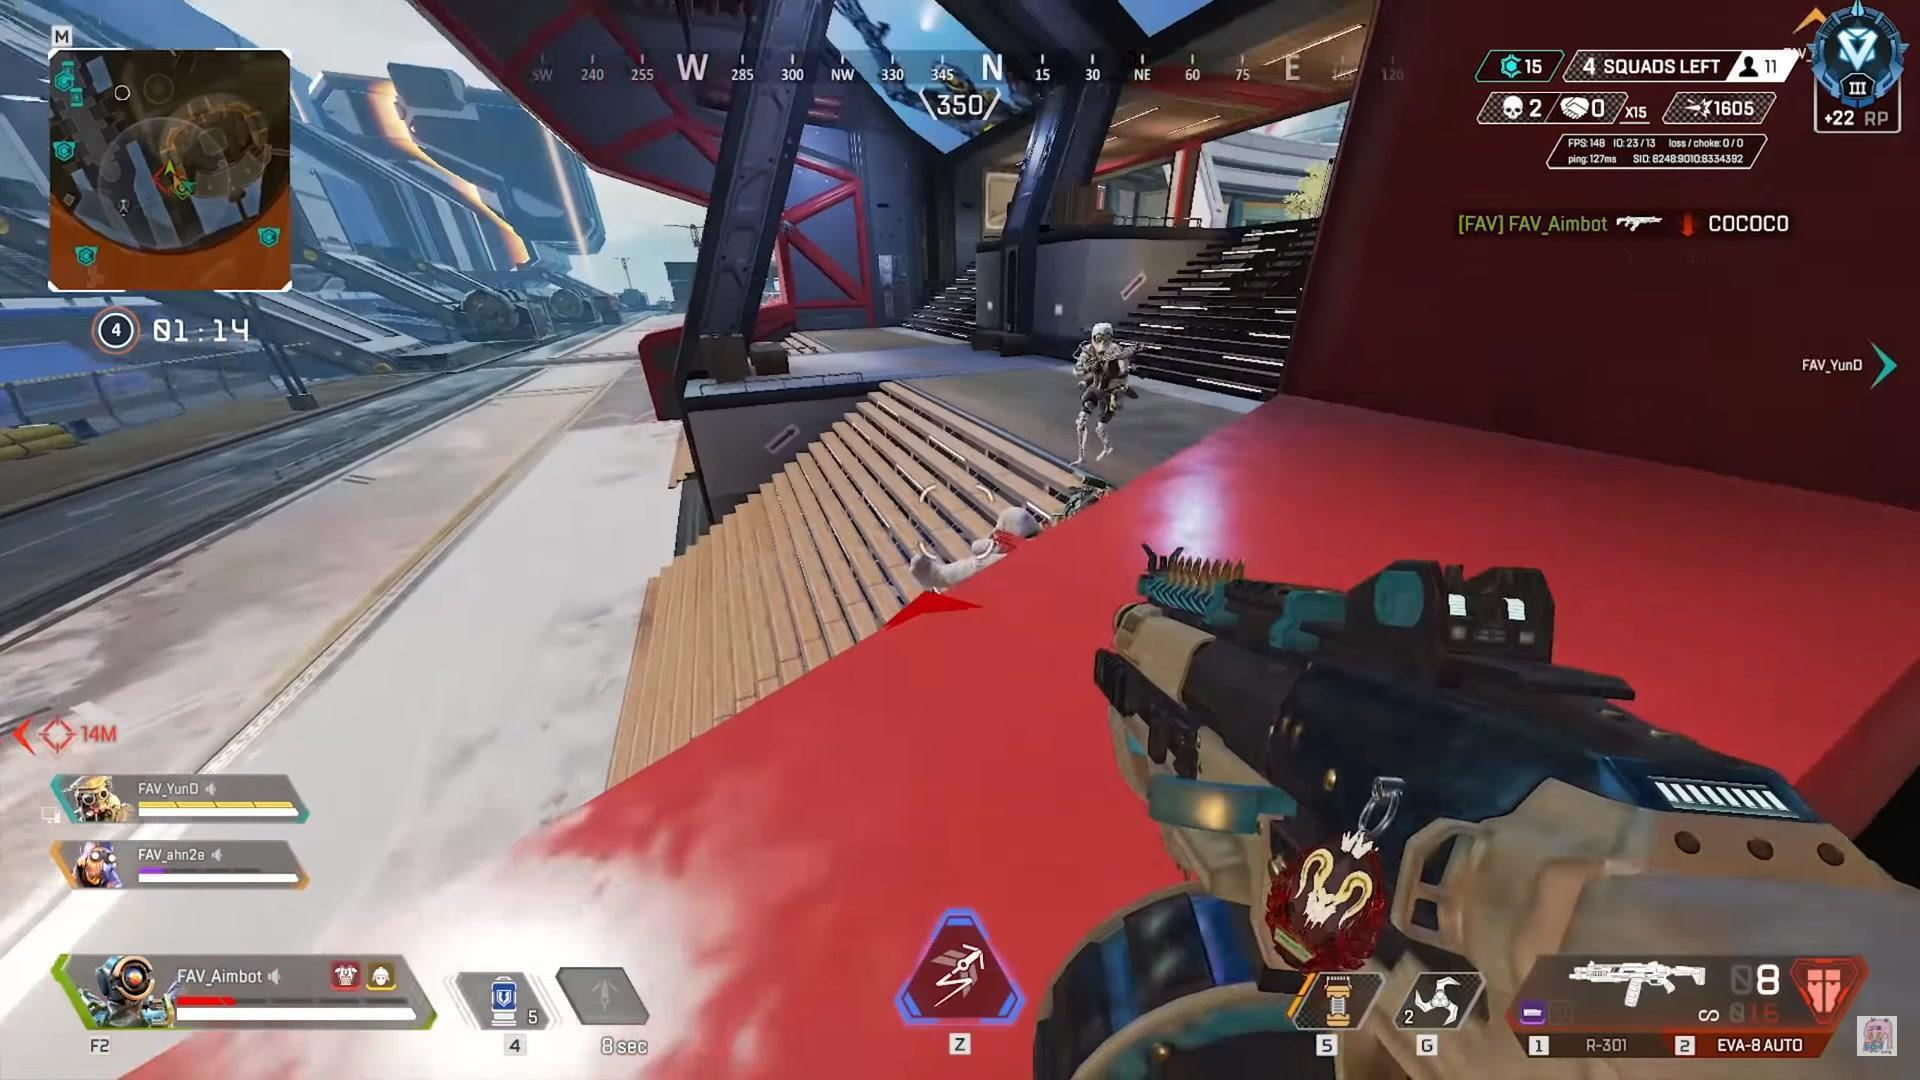avatar: (1072, 323, 1129, 465)
